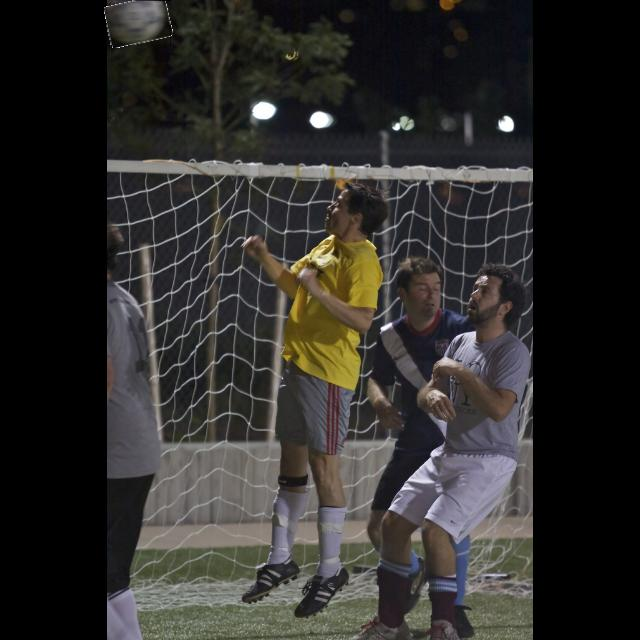Football: (106, 0, 171, 45)
